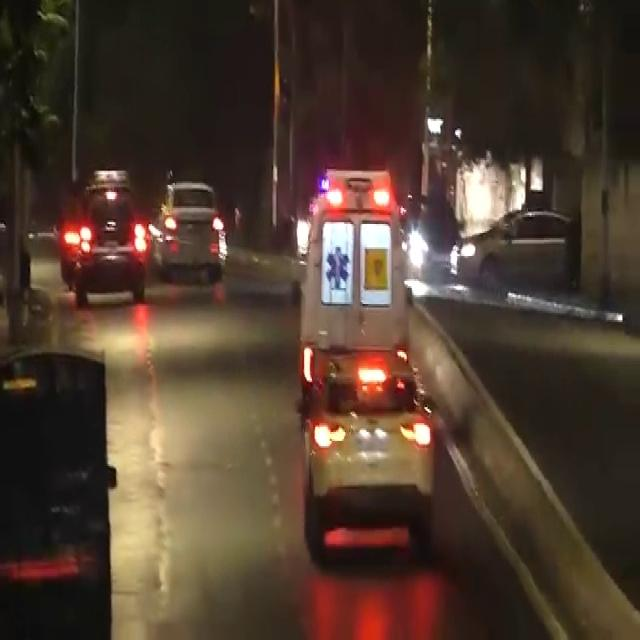ambulance: (288, 135, 409, 377)
